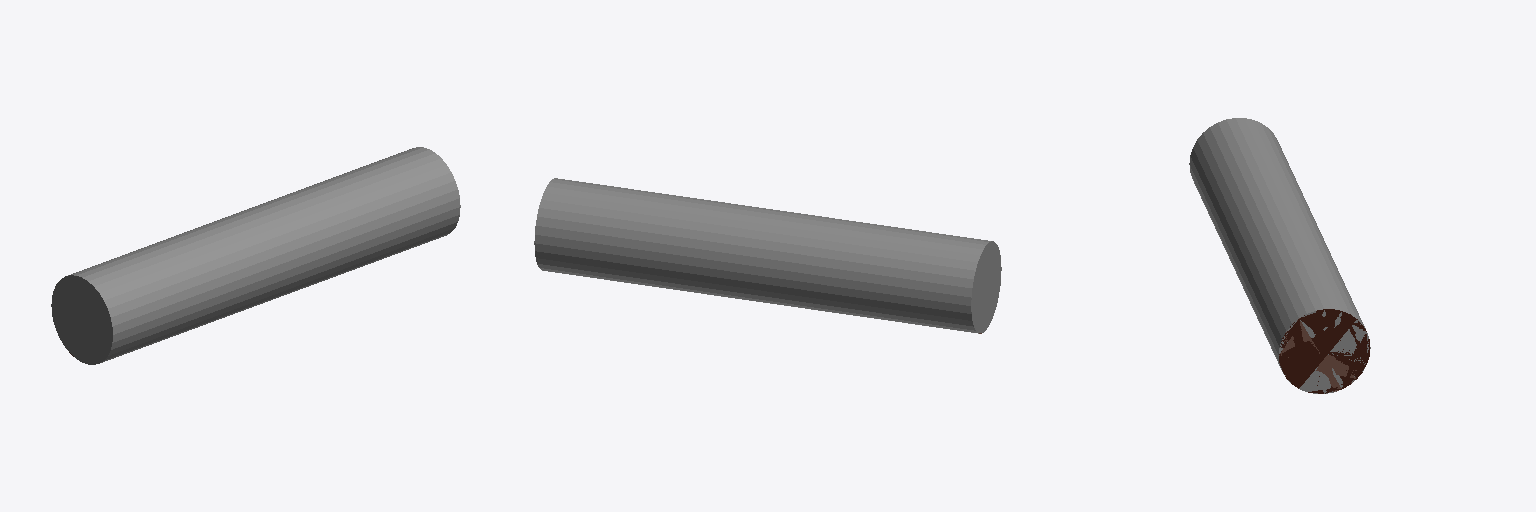
Rendered from Coffin.obj.
The picture shows the model from 3 angles: view 1: azimuth 30°, elevation 25°; view 2: azimuth 150°, elevation 25°; view 3: azimuth 270°, elevation 25°; orthographic projection.
Parts seen in each view (by area): view 1: Cylinder004, Cylinder006; view 2: Cylinder004, Cylinder006; view 3: Cylinder004, Cylinder006, Object002, Box004.
Part boxes in pixels (left/top/right/bottom): Cylinder004: left=51, top=147, right=460, bottom=362; Cylinder006: left=51, top=147, right=459, bottom=364; Cylinder004: left=534, top=178, right=1001, bottom=332; Cylinder006: left=535, top=178, right=999, bottom=333; Cylinder004: left=1189, top=118, right=1368, bottom=393; Cylinder006: left=1189, top=118, right=1370, bottom=393; Object002: left=1279, top=309, right=1369, bottom=393; Box004: left=1279, top=309, right=1369, bottom=391.
Size of the model in its own units: 68514 by 13628 by 26356.